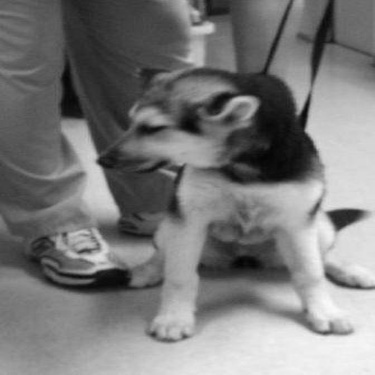dog: (95, 50, 374, 346)
